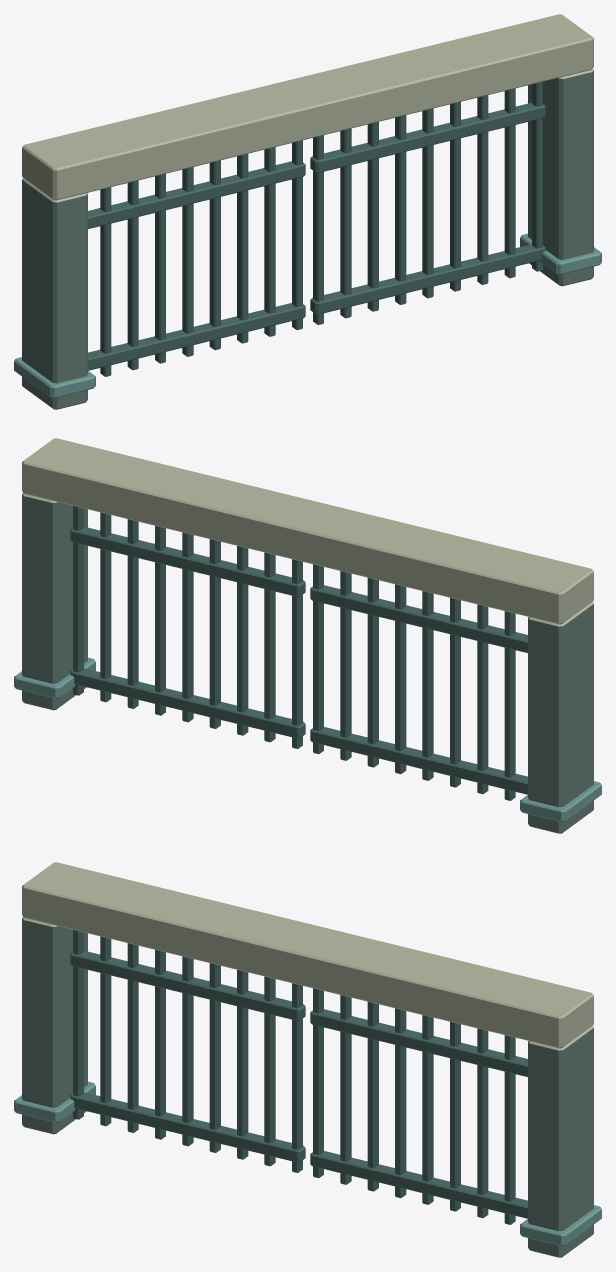
Rendered from gate-wide.glb.
3 renders of one model, top to bottom at view 1: azimuth 30°, elevation 25°; view 2: azimuth 150°, elevation 25°; view 3: azimuth 330°, elevation 25°, orthographic.
Parts seen in each view (by area): view 1: gate-wide__body, gate-wide__leaf-right, gate-wide__leaf-left; view 2: gate-wide__body, gate-wide__leaf-right, gate-wide__leaf-left; view 3: gate-wide__body, gate-wide__leaf-left, gate-wide__leaf-right.
Part boxes in pixels (x1,y1,x2,y2): gate-wide__body: (14,14,601,409); gate-wide__leaf-right: (310,82,545,324); gate-wide__leaf-left: (88,140,305,376); gate-wide__body: (14,438,601,833); gate-wide__leaf-right: (70,506,305,748); gate-wide__leaf-left: (310,564,527,800); gate-wide__body: (14,862,601,1257); gate-wide__leaf-left: (70,930,305,1172); gate-wide__leaf-right: (310,988,527,1224).
Bounding box in the file's own units: 4.69 × 1.96 × 0.58.
